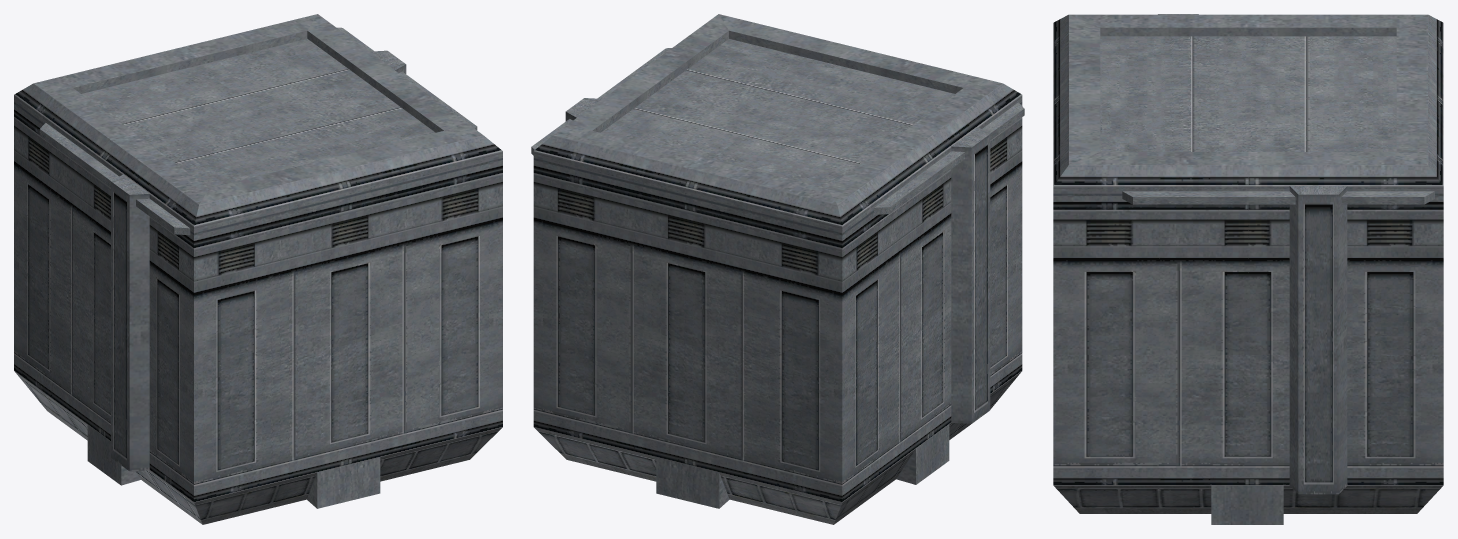
File: poi_all_impl_crate_big_s01_l0.fbx
3 views of the same model, side by side, from view 1: azimuth 30°, elevation 25°; view 2: azimuth 150°, elevation 25°; view 3: azimuth 270°, elevation 25° (orthographic). The views are drawn at different scales.
Visible parts, largest first — view 1: mesh_node; view 2: mesh_node; view 3: mesh_node.
Part boxes in pixels (<box>): mesh_node: <box>14,14,502,524</box>; mesh_node: <box>531,14,1024,524</box>; mesh_node: <box>1053,14,1443,524</box>.
Size of the model in its own units: 3.77 by 3.44 by 3.44.
